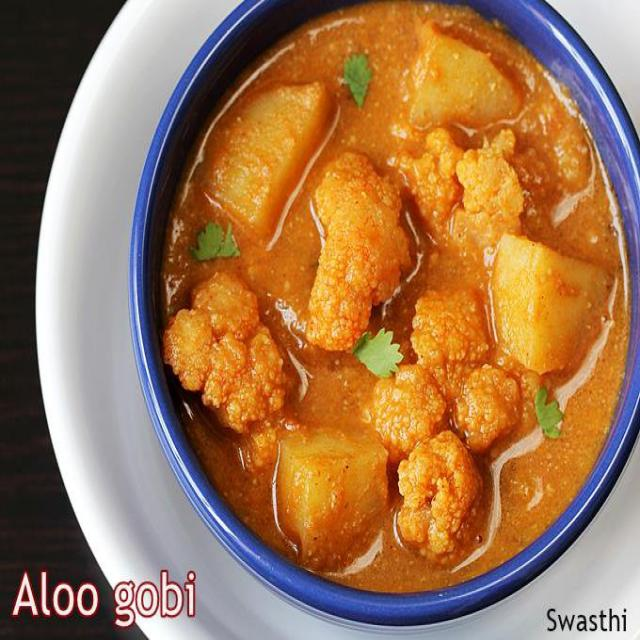Aloo Gobi: (230, 0, 620, 556)
